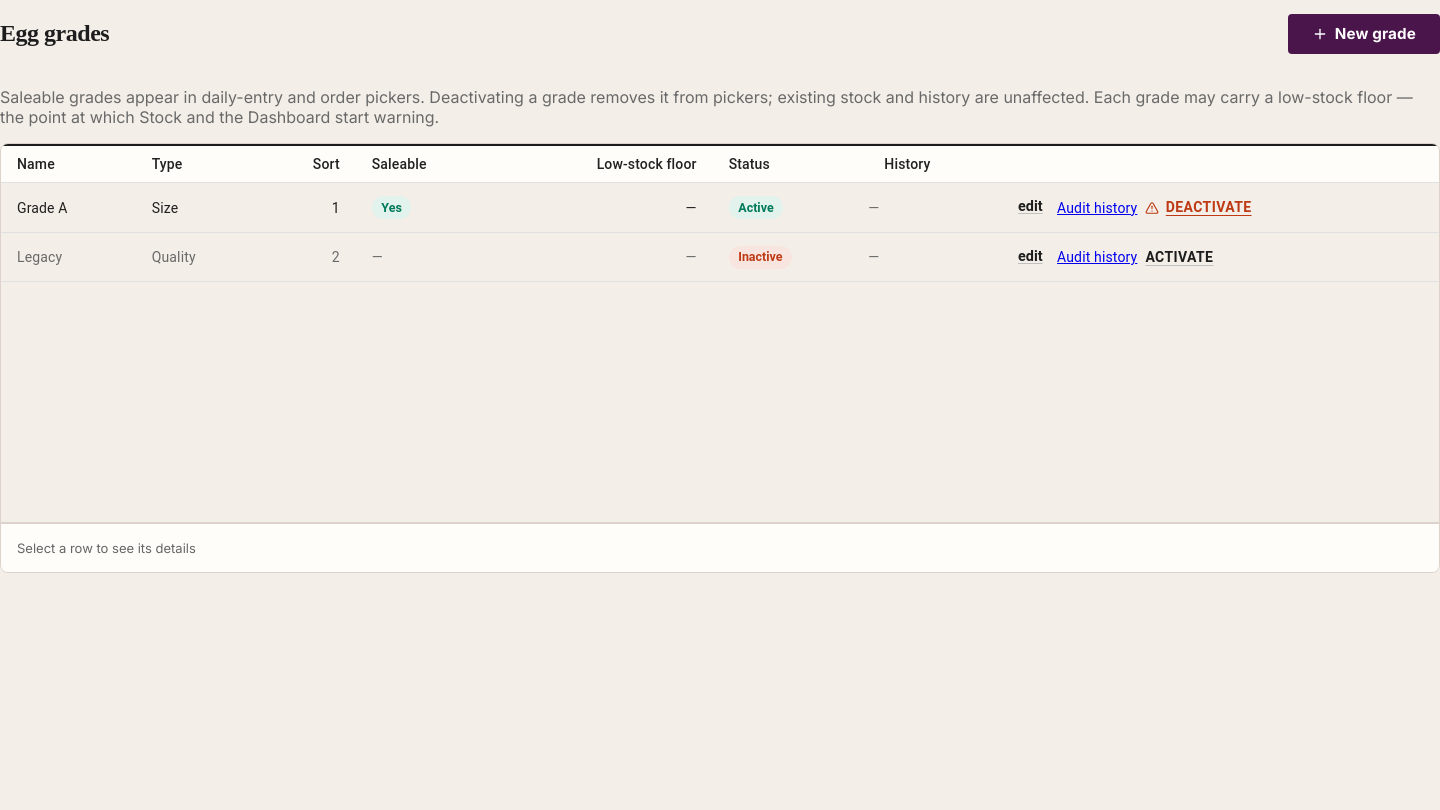
it: GradesPage pending states (#236) › maps a skipped run to failure: a submit landing under an open flight writes nothing and keeps its dialog and values
Expected: the text "Grade A" is shown, [1, 183, 136, 232]
Click the button "deactivate" at (1198, 208), box [1145, 189, 1252, 226]
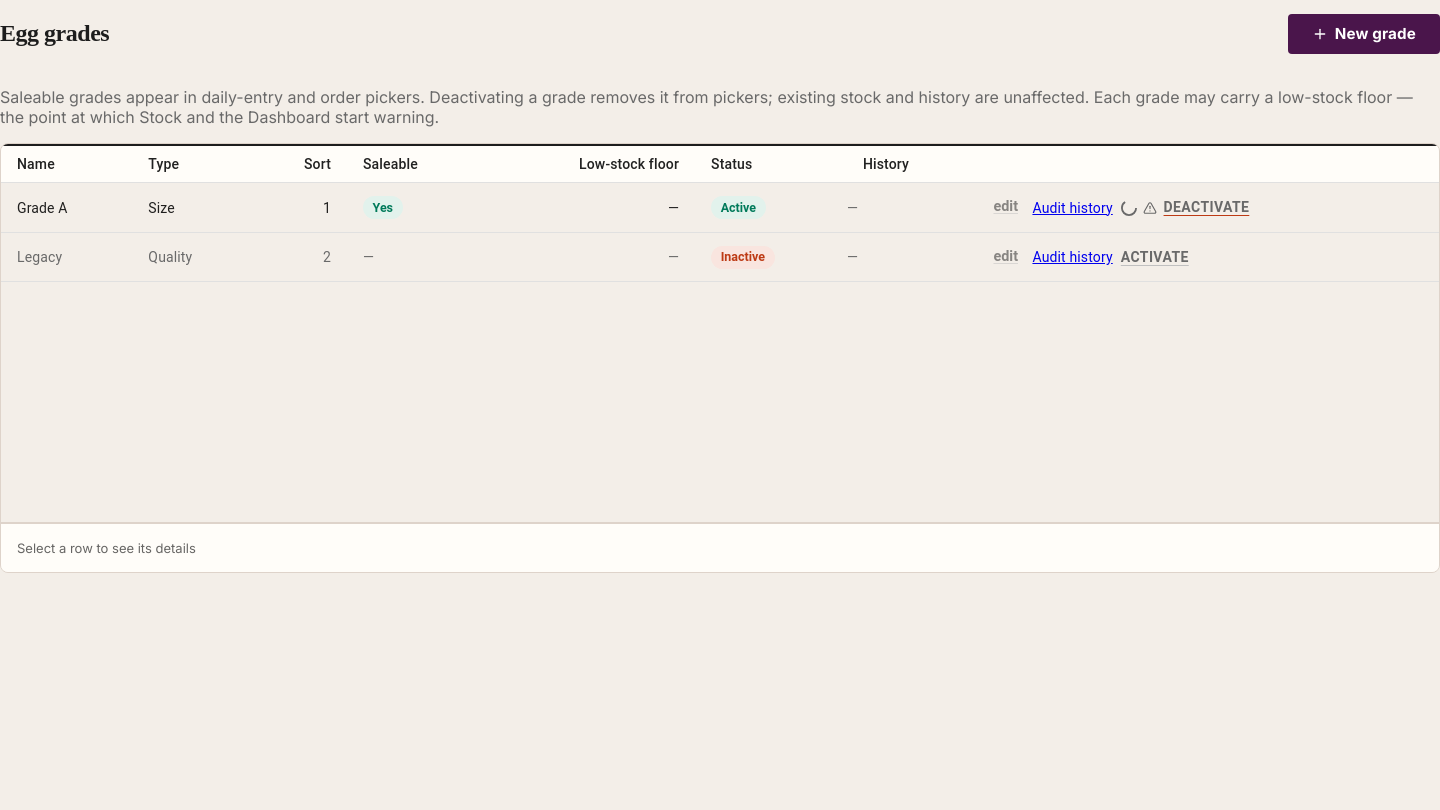
Expected: the button "deactivate" has attribute aria-busy="true", [1121, 189, 1249, 226]
Click the button "New grade" at (1364, 34), box [1288, 14, 1439, 54]
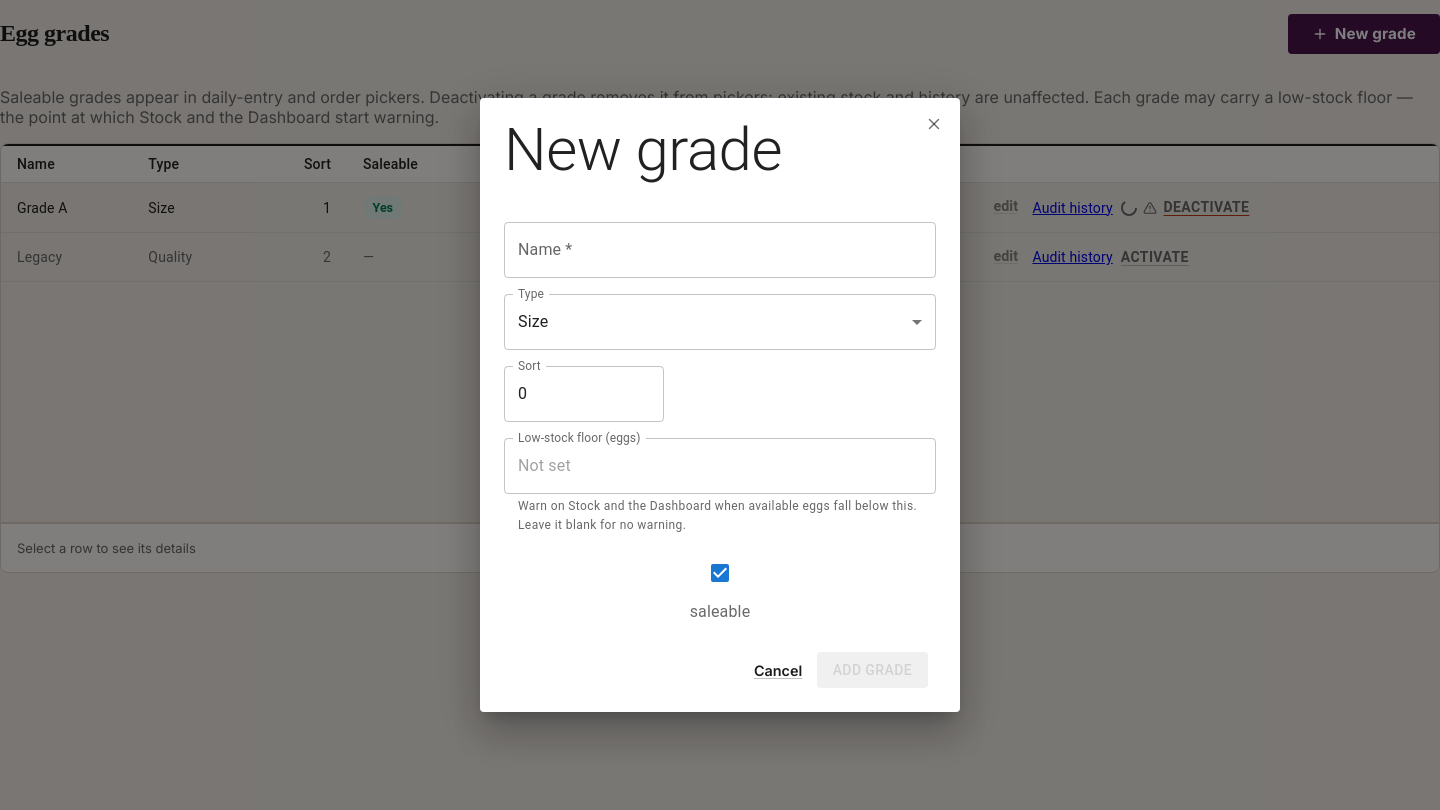
Type "Jumbo" into the field labelled "Name *" at (720, 250), box [504, 222, 936, 278]
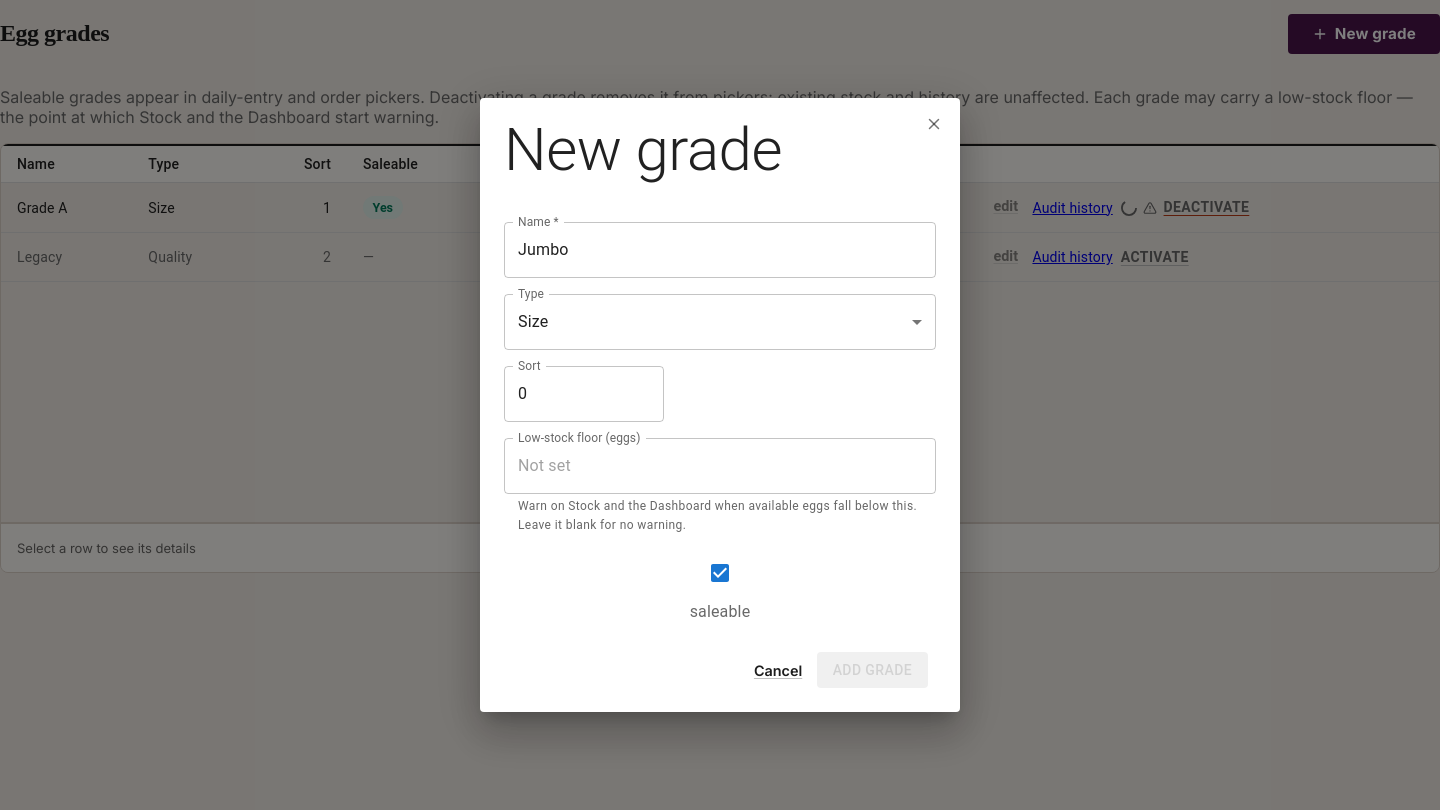
Submit the form labelled "Name *", box [480, 202, 960, 712]
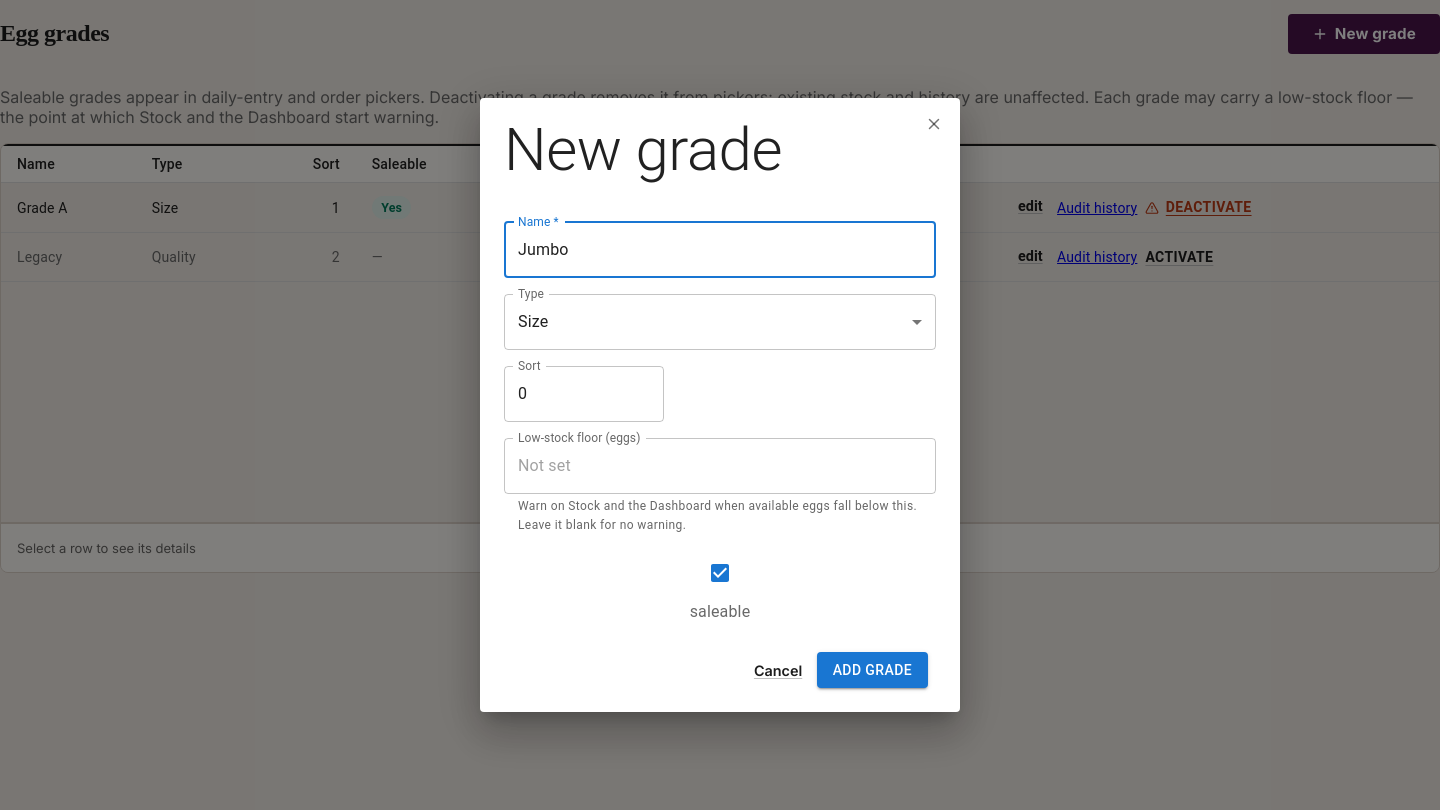
Expected: the dialog is shown, [480, 98, 960, 712]
Expected: the button "Add grade" is enabled, [817, 652, 928, 688]
